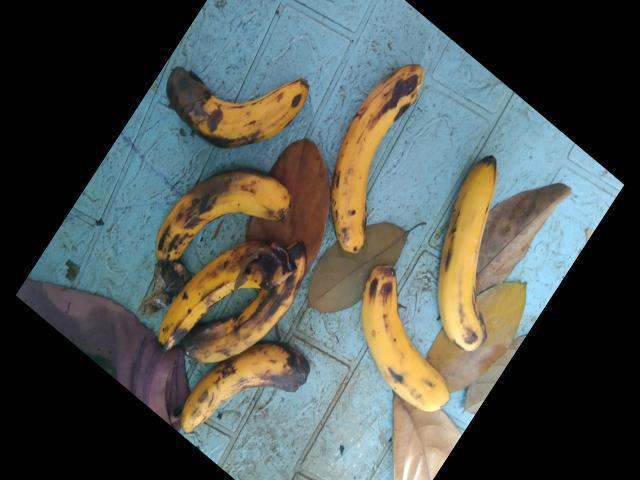overripe: (319, 54, 431, 255), (347, 262, 456, 416)
ripe: (428, 146, 516, 350)
rotten: (133, 324, 325, 469), (120, 156, 308, 278), (155, 38, 327, 160)
